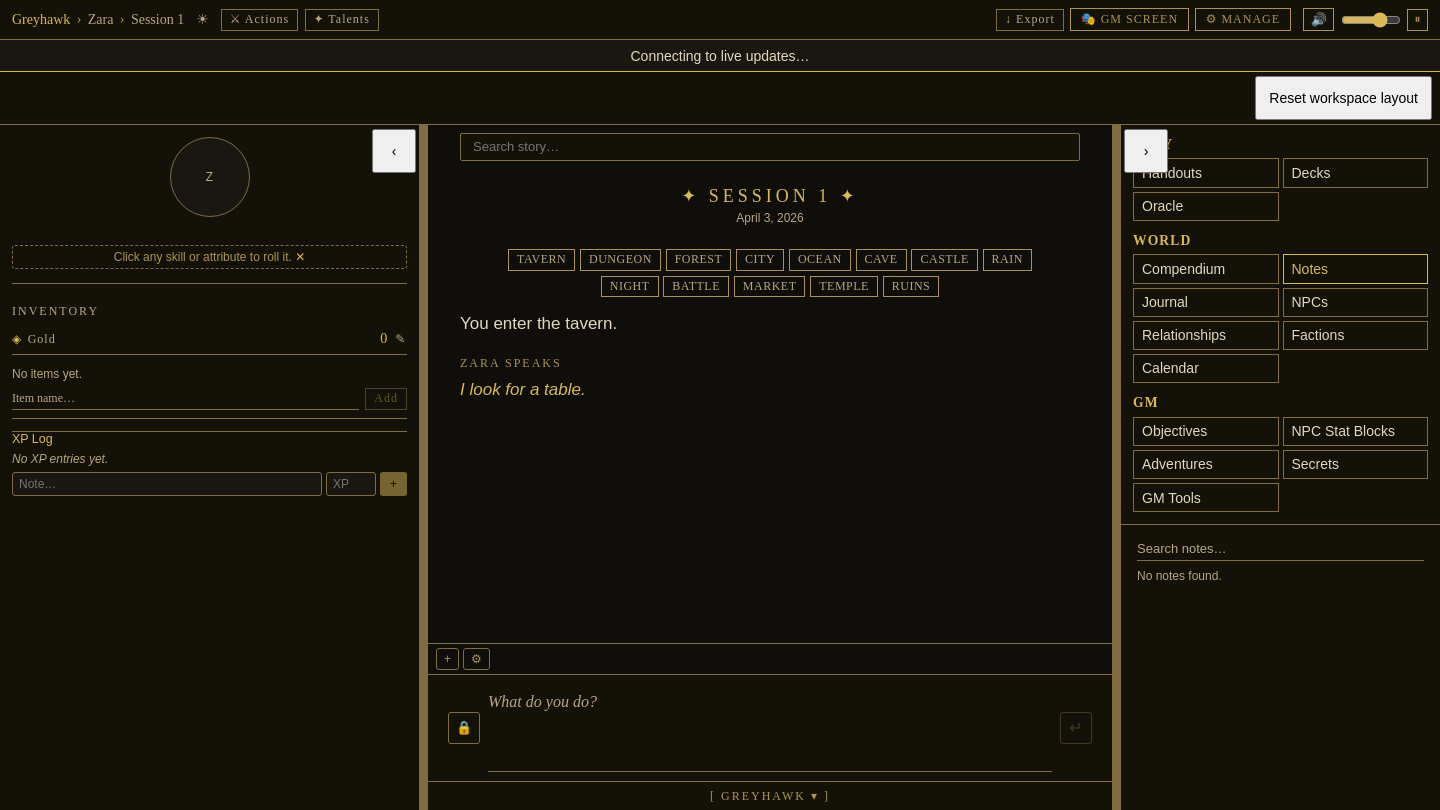
Test: App › reports a safe reanalysis failure without exposing provider details
Click the button "Journal": {"x": 1206, "y": 302} [1133,288,1278,317]
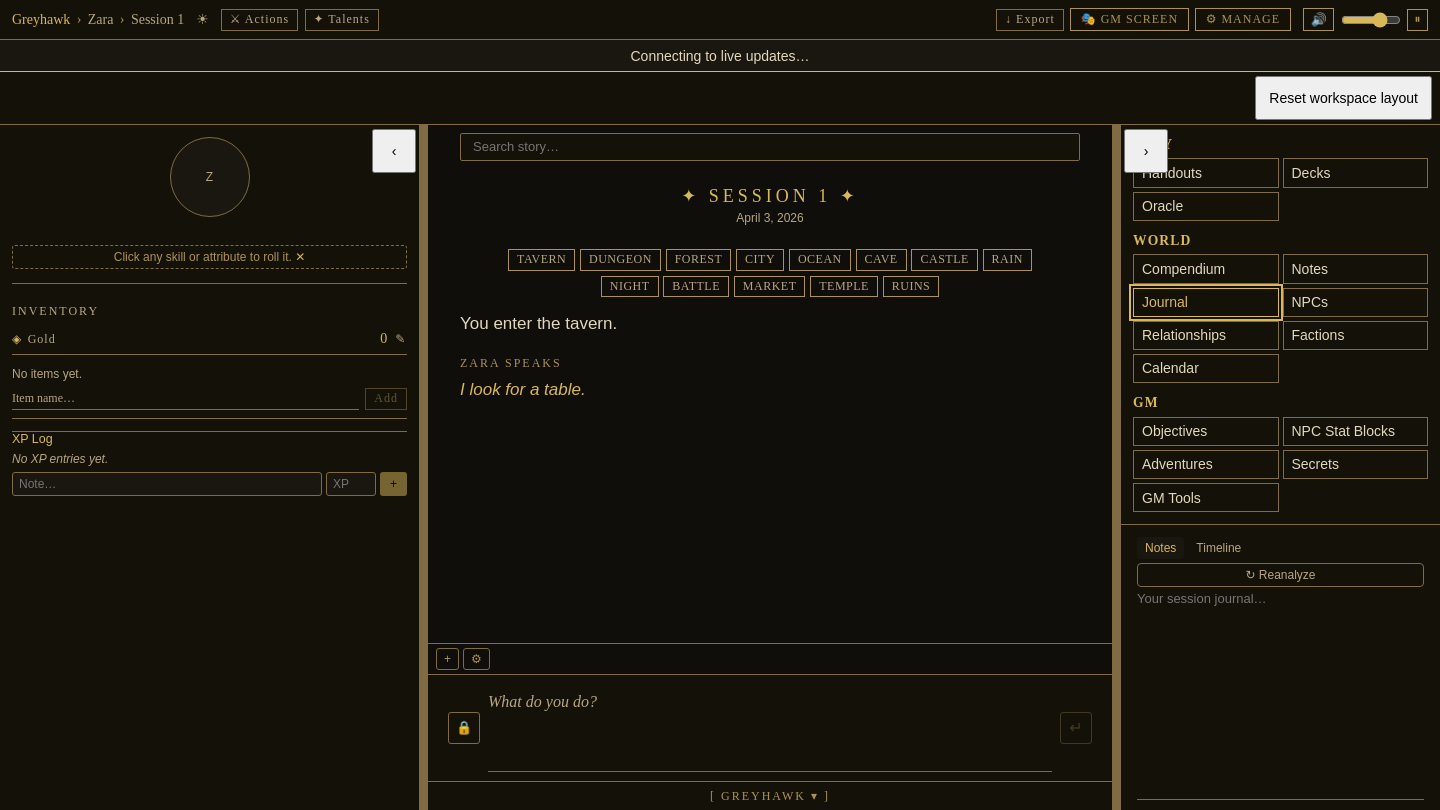
Click the button "↻ Reanalyze": {"x": 1280, "y": 575} [1137,563,1424,587]
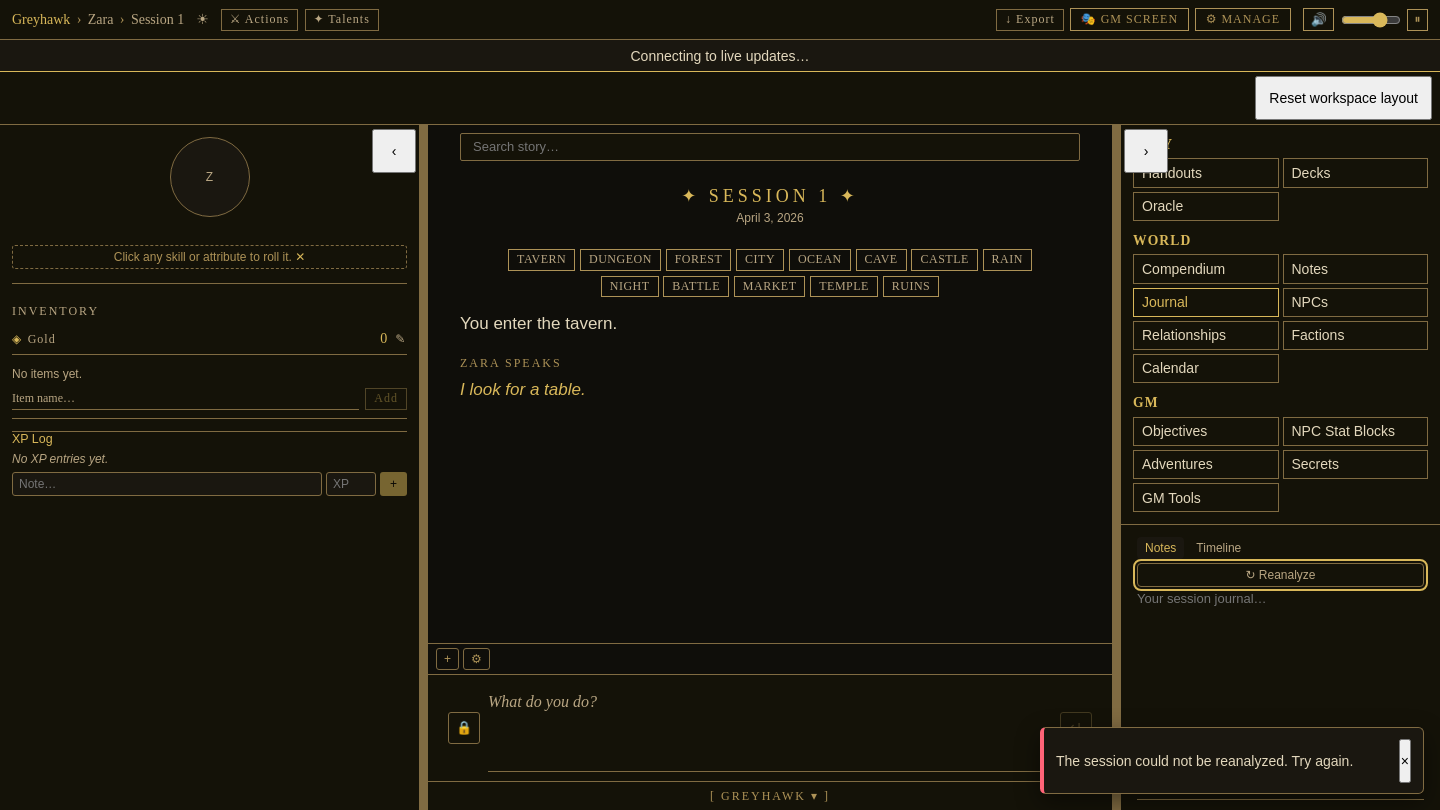
Expected: the text "The session could not be reanalyzed. Try again." is shown, [1056,753,1353,769]
